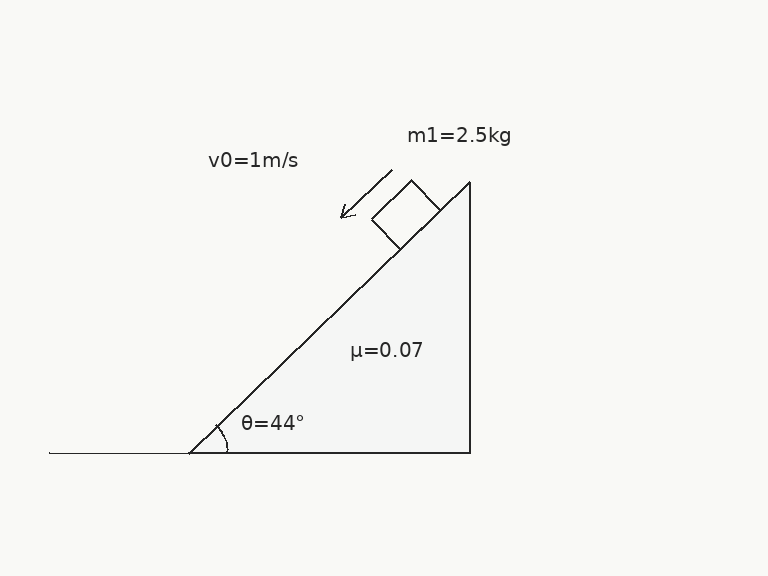block: (369, 179, 442, 251)
ramp: (186, 180, 471, 455)
